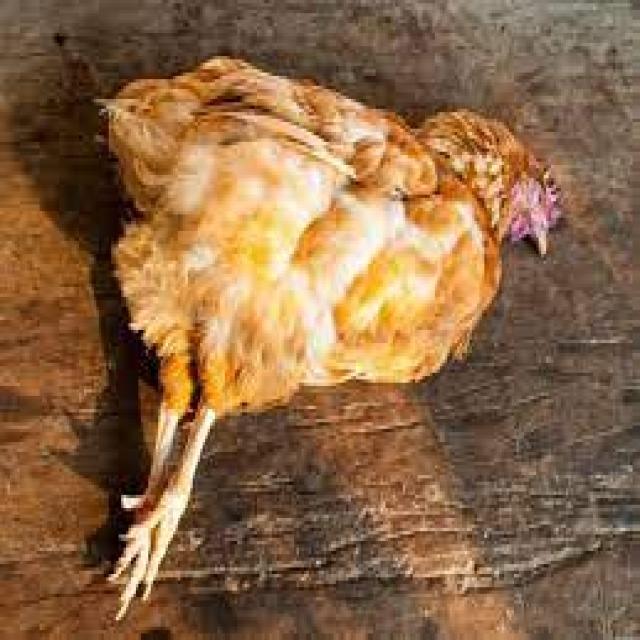Unhealthy: (59, 52, 559, 590)
